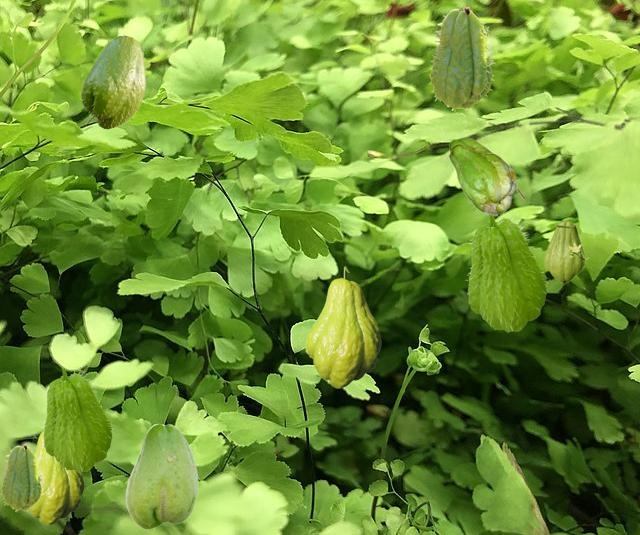sayote: (465, 212, 548, 331), (305, 266, 380, 387), (125, 423, 197, 528), (41, 366, 113, 471), (428, 6, 494, 111), (79, 35, 145, 129), (445, 137, 523, 215), (29, 431, 83, 524), (0, 444, 42, 511), (544, 221, 588, 283)
